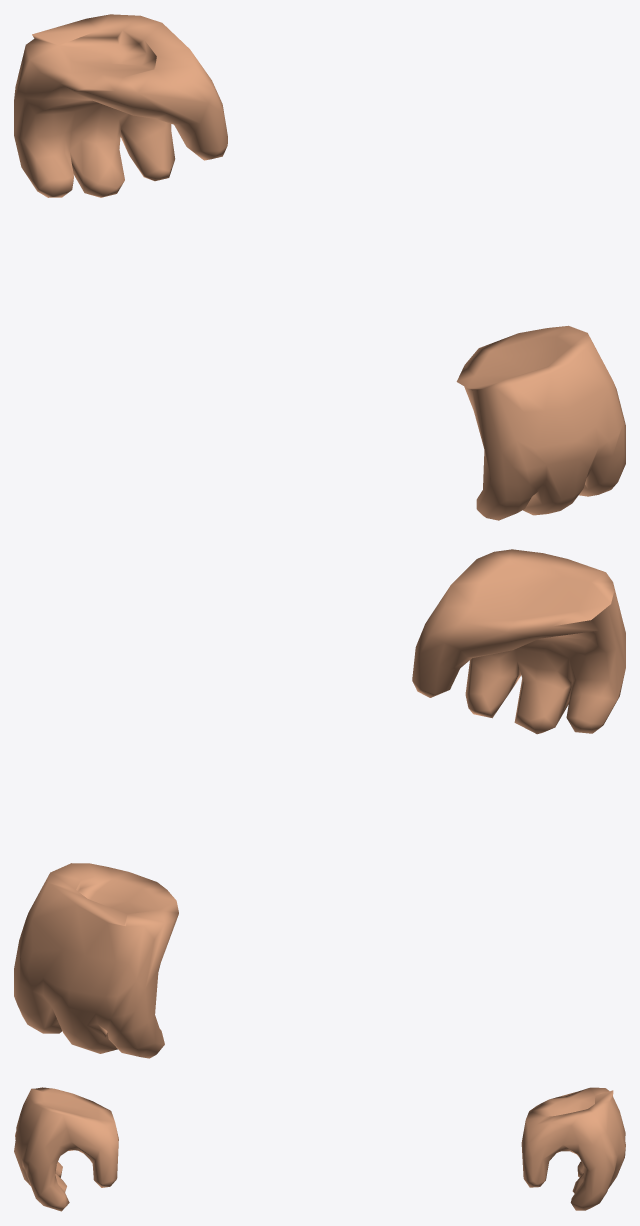
File: Hand.glb
The picture shows the model from 3 angles, top to bottom: view 1: azimuth 30°, elevation 25°; view 2: azimuth 150°, elevation 25°; view 3: azimuth 270°, elevation 25°; orthographic projection. The views are drawn at different scales.
Parts seen in each view (by area): view 1: Hand; view 2: Hand; view 3: Hand.
Part boxes in pixels (box(x1,y1,x2,y2)): Hand: box(14, 14, 625, 520); Hand: box(14, 549, 625, 1058); Hand: box(14, 1087, 625, 1211).
Bounding box in the file's own units: 0.0212 × 0.0215 × 0.1187.
Materials: 1 (1 with a texture image).
